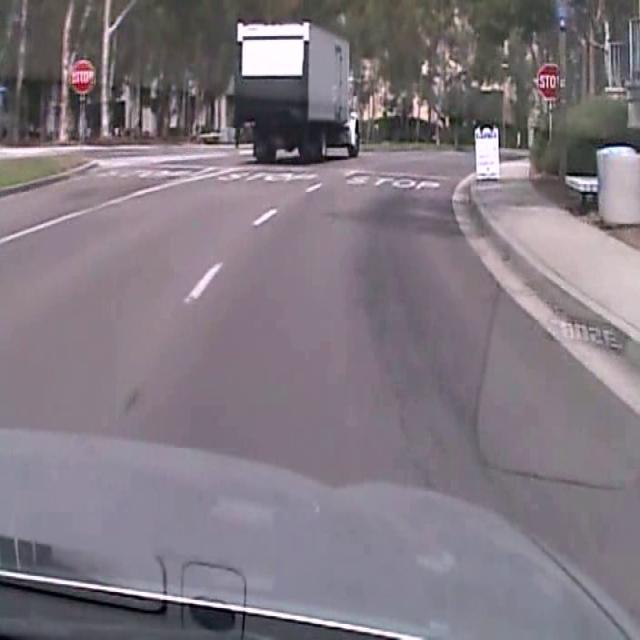stop_sign: (537, 61, 564, 99), (69, 58, 94, 94)
